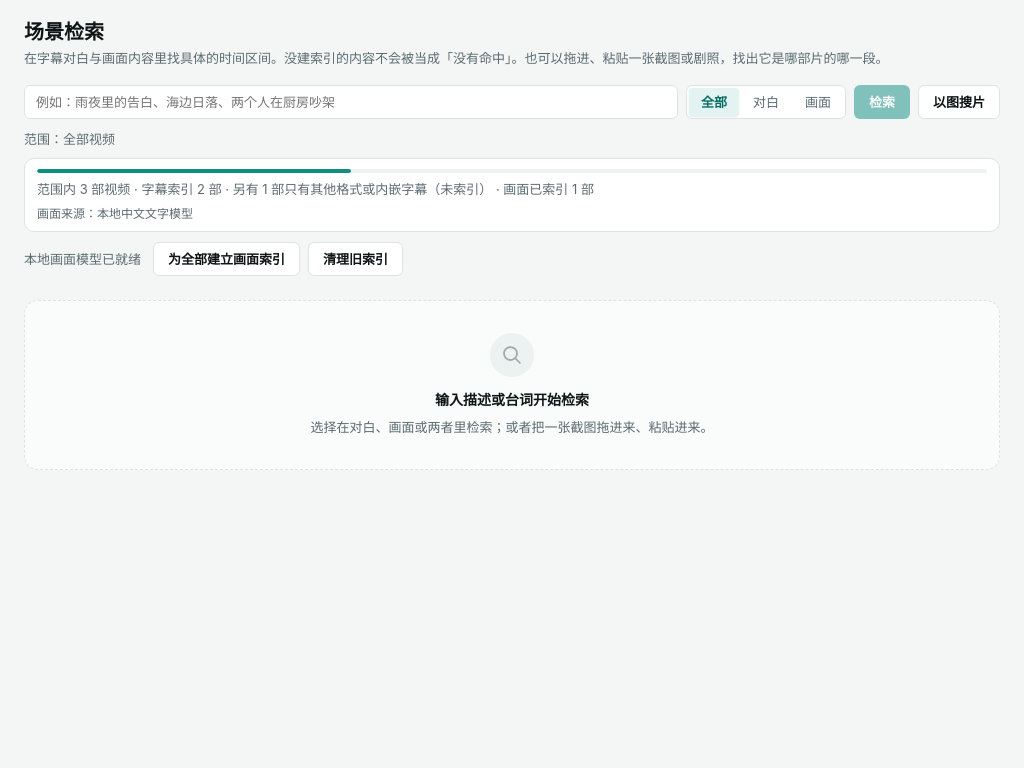
以图搜片与相似画面 › 命中卡片「相似画面」用那一刻的画面检索，并说明不含这一刻前后 10 秒
The width and height of the screenshot is (1024, 768).
Type "海边" into the search field with test id "scenes-query". click: (351, 102)
box: [24,84,678,118]
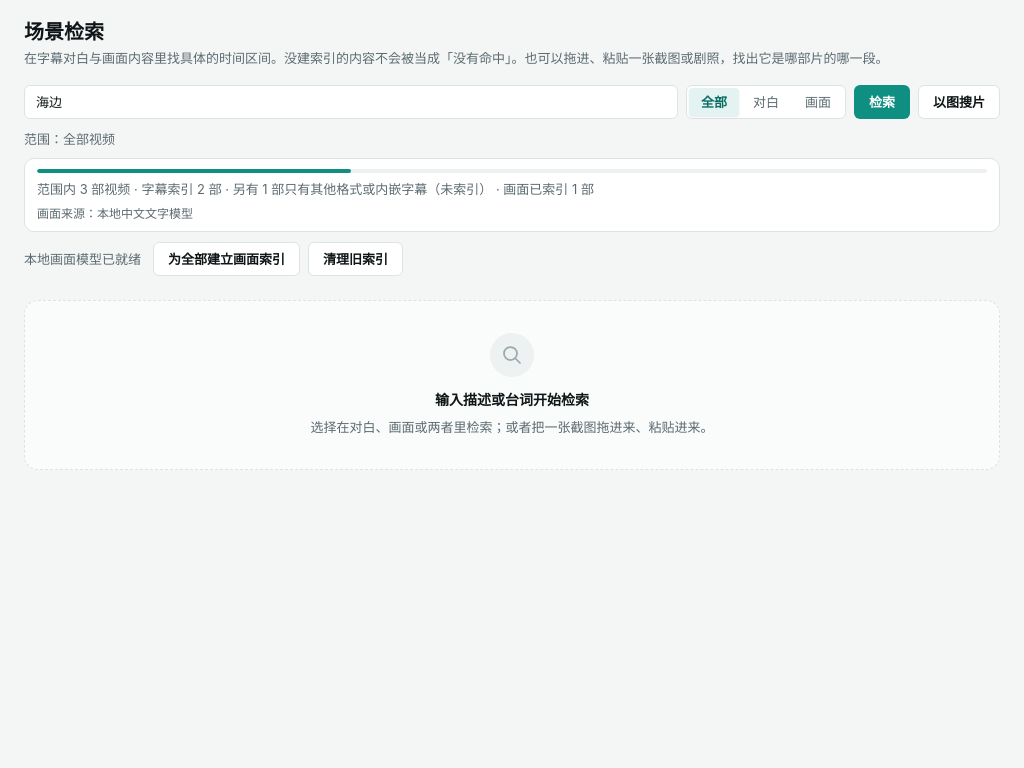
Submit the form with test id "scenes-search-form", box [24,84,1000,118]
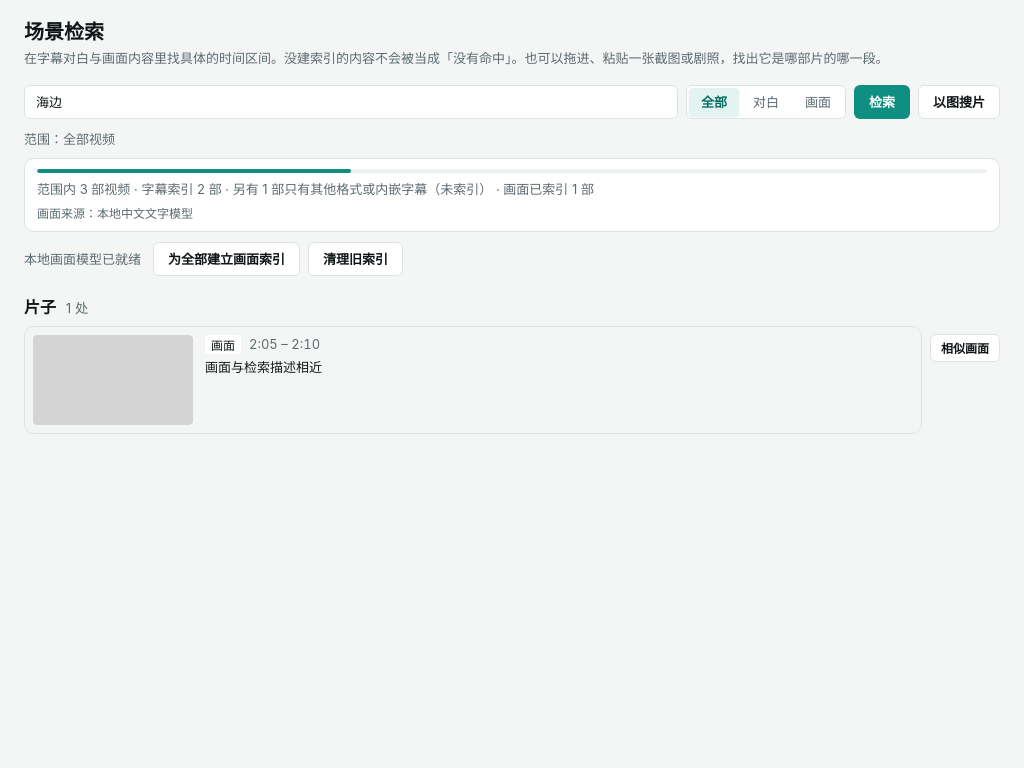
Click the button with test id "scenes-similar-7-0". click: (965, 348)
box: [930,334,1000,362]
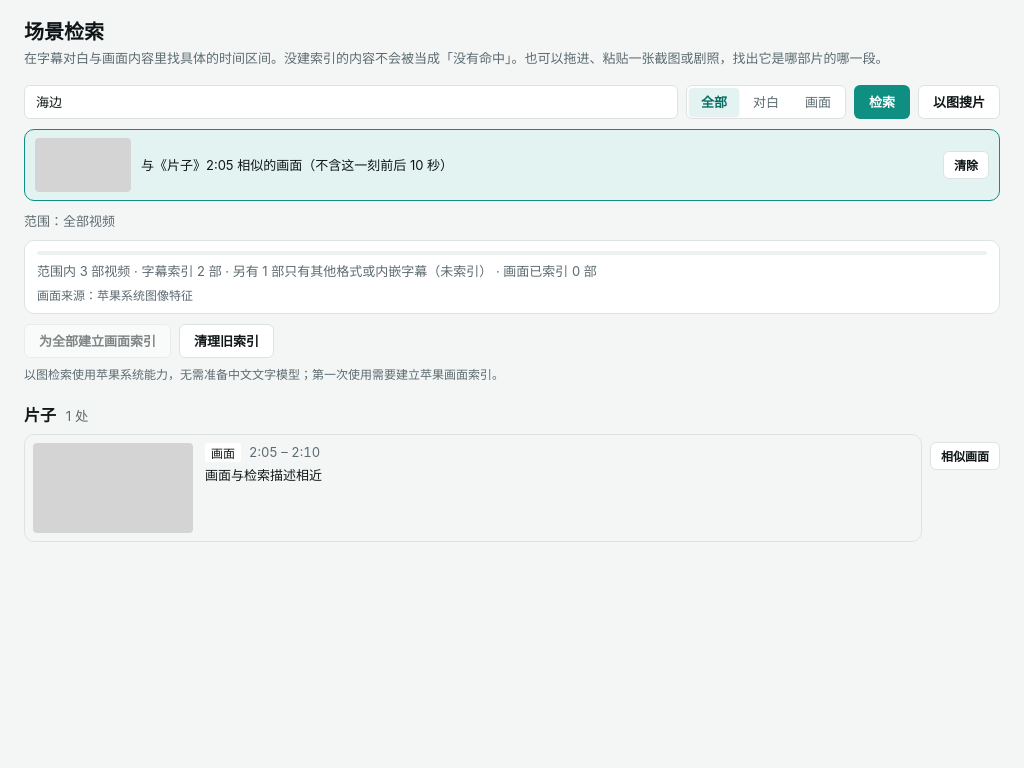
Expected: the element with test id "scenes-image-query" shows "与《片子》2:05 相似的画面（不含这一刻前后 10 秒）", [141,157,453,173]
Click the button with test id "scenes-clear-image". click: (966, 164)
box: [943,150,989,178]
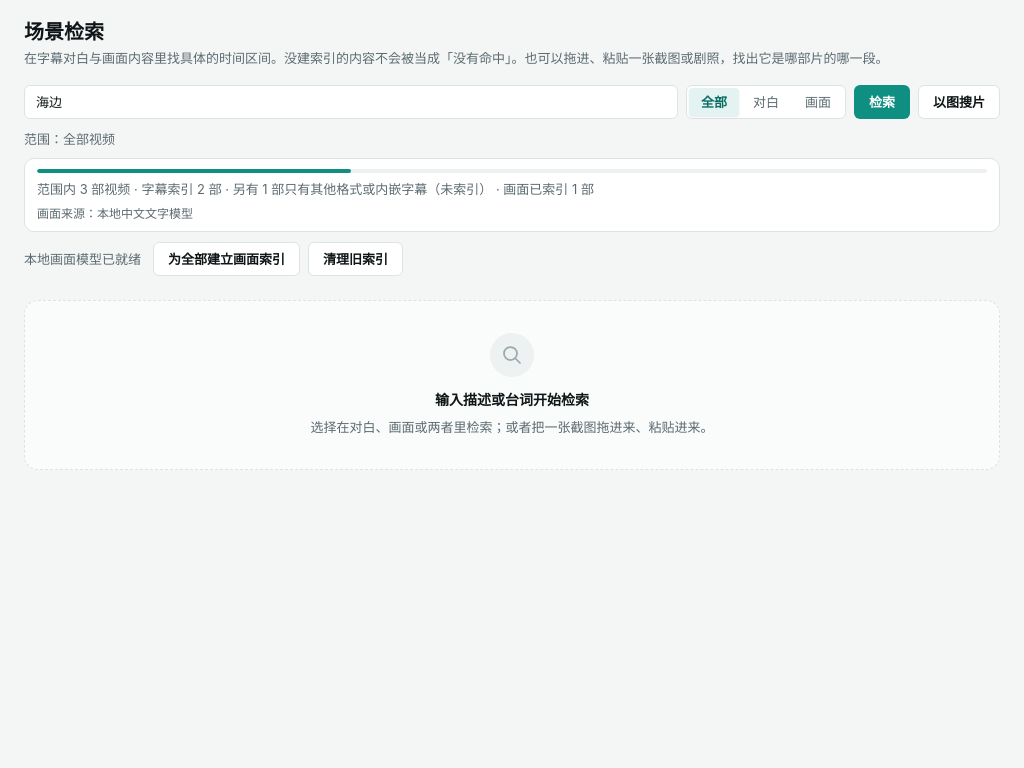
Expected: the element with test id "scenes-idle" is shown, [24,300,1000,470]
